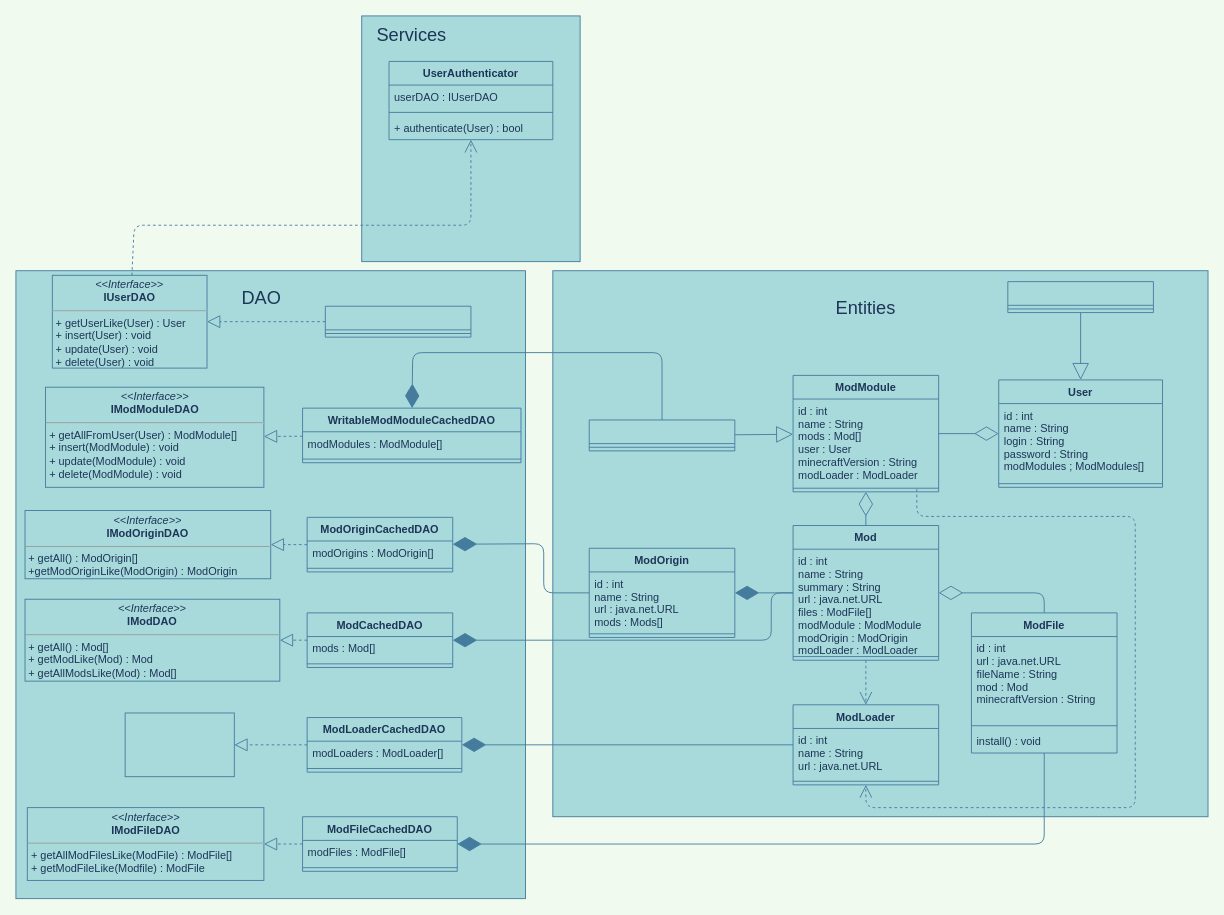
This 1224x915 diagram has some shape labels left out. Here are the shapes that lost their labels. From the top down, the centre of each, then its label:
(x=1080, y=297): WritableUser
(x=397, y=321): WritableUserDAO
(x=661, y=435): WritableModModule
(x=179, y=744): <<Interface>> IModLoaderDAO + getAll()
